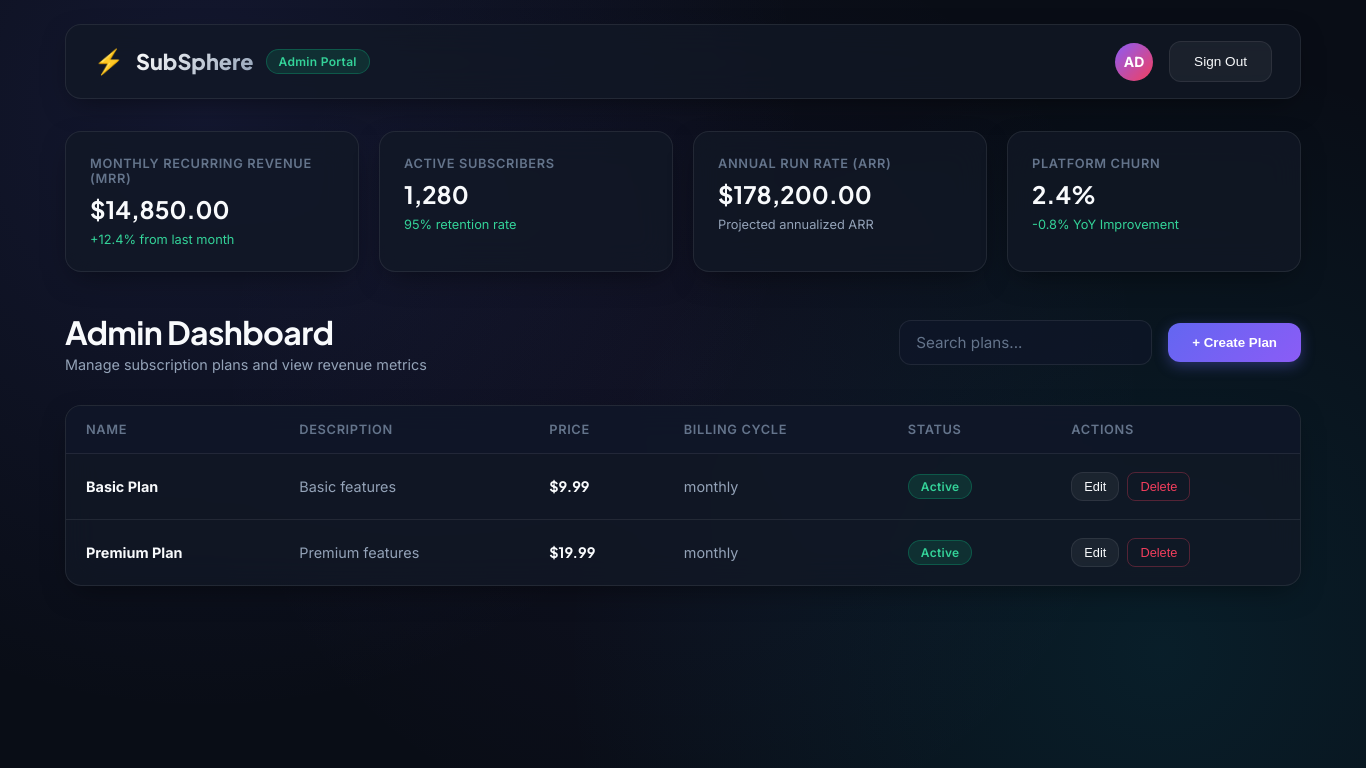
Test case: AdminDashboard › opens modal when create plan button is clicked
The image size is (1366, 768).
Click the button "+ Create Plan" at (1235, 342), box [1168,323,1301,362]
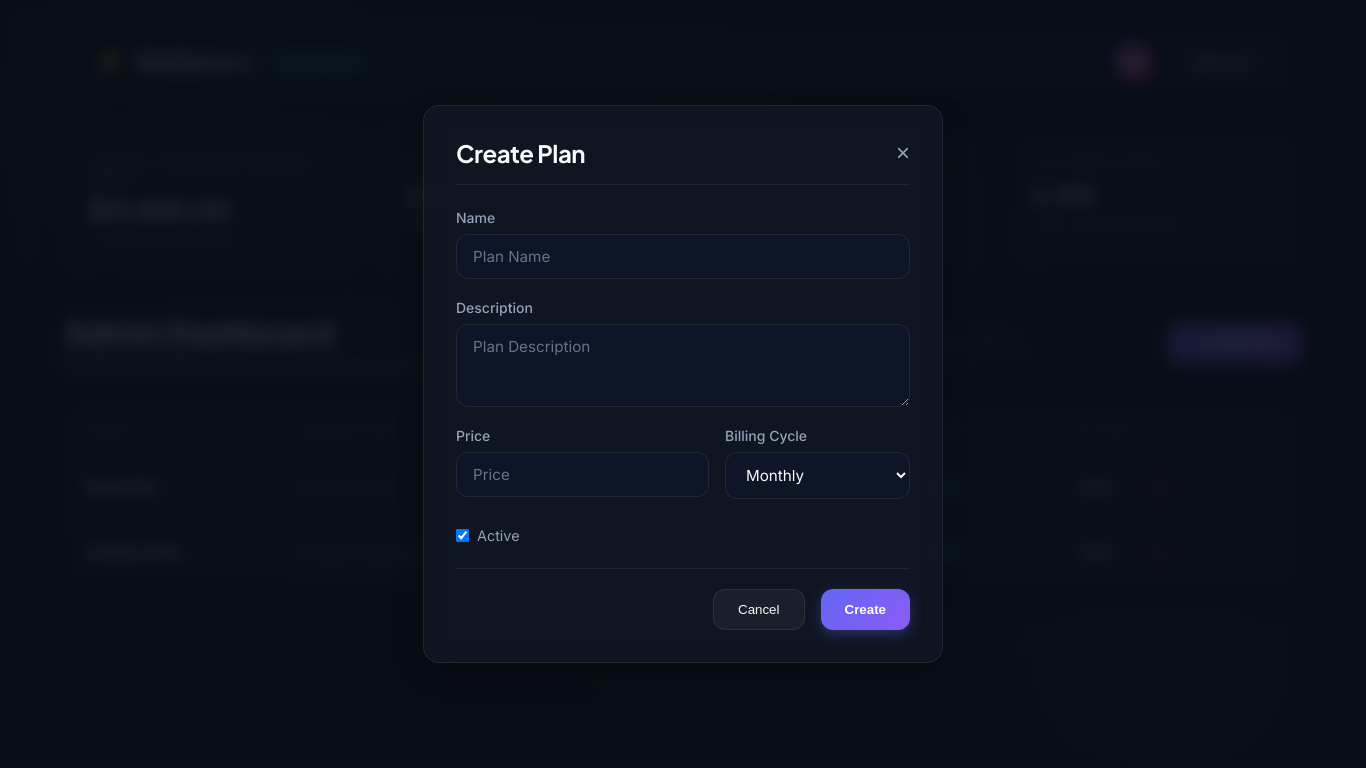
Expected: the field with placeholder "Search plans..." is shown, [899,320,1152,365]
Result: the heading "Create Plan" is shown at [456,138,585,168]
